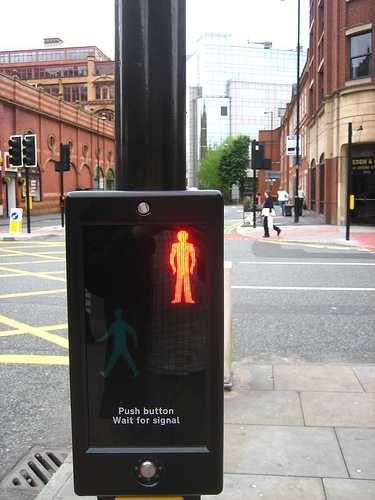red: (152, 219, 209, 310)
